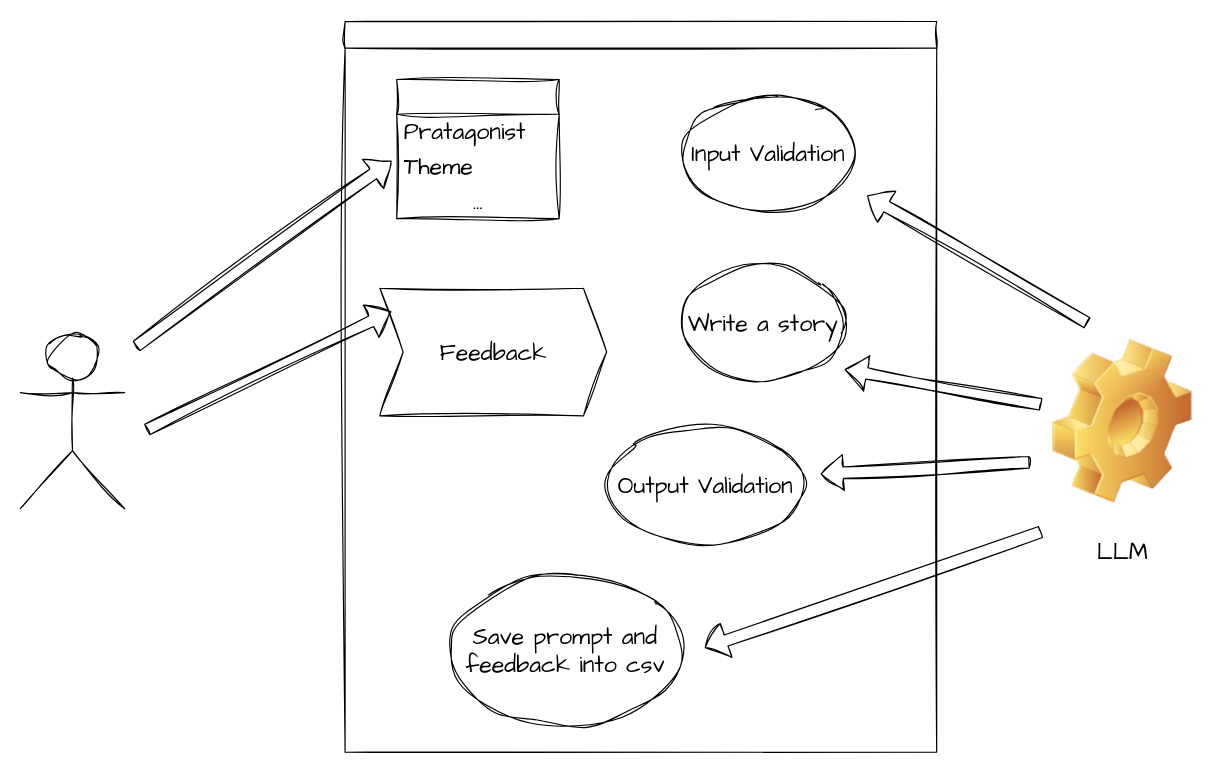
Some shapes in this 1212 by 773 pixel diagram are drawn without their labels. Each missing label, with the box of its shape:
Actor: (19, 334, 125, 509)
Children's Story Writing LLM: (344, 20, 937, 752)
Input: (396, 78, 559, 219)
